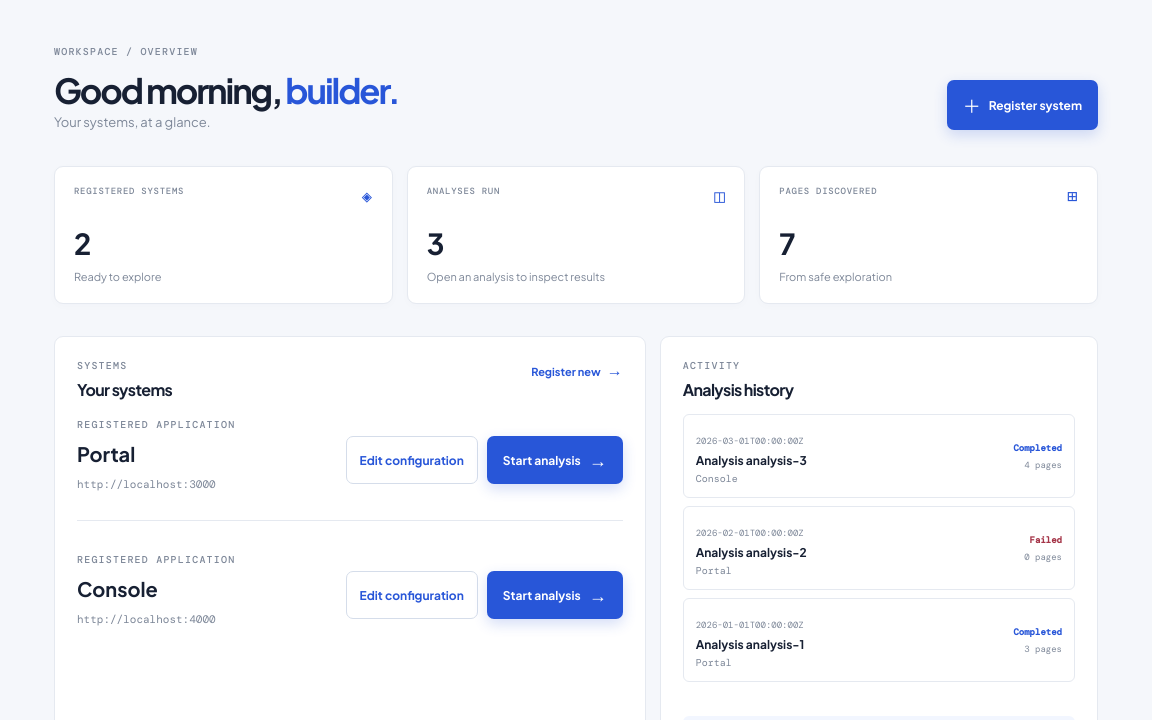
Test case: DashboardComponent › reports a start failure only on the card that failed
This screenshot has width=1152, height=720.
Click the button "Start analysis →" in the row of "http://localhost:3000" at (555, 460), box x1=487 y1=436 x2=623 y2=484
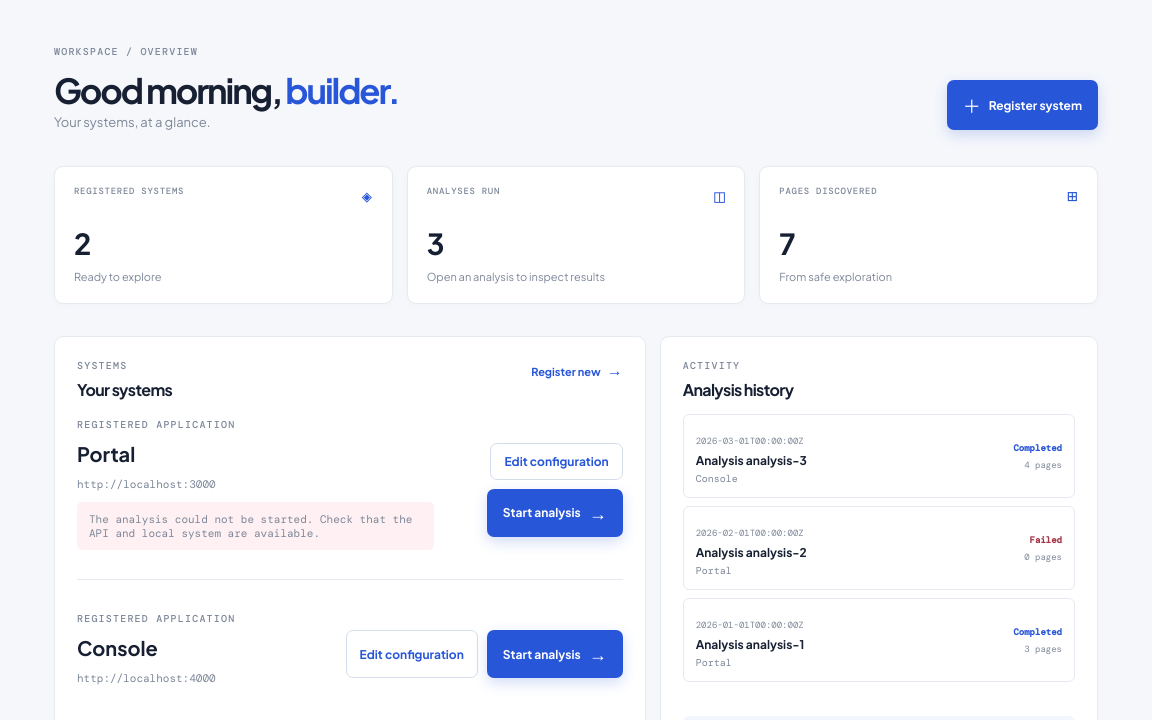
Expected: the message is shown, x1=77 y1=502 x2=434 y2=550
